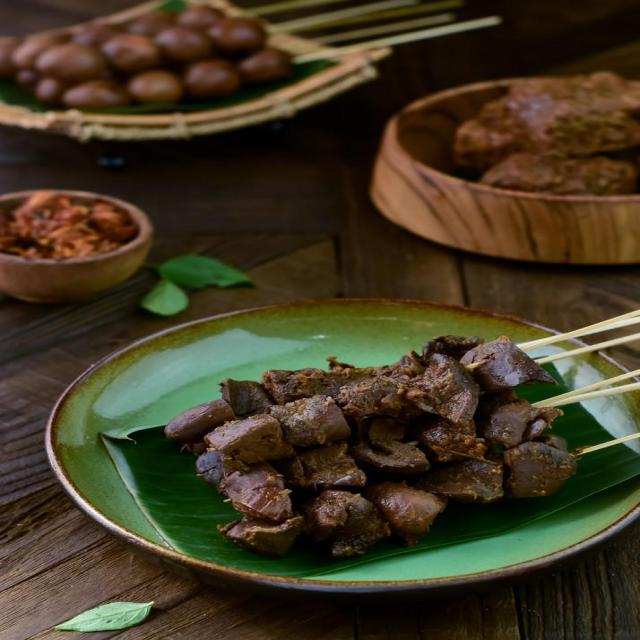Sate: (153, 324, 640, 533)
